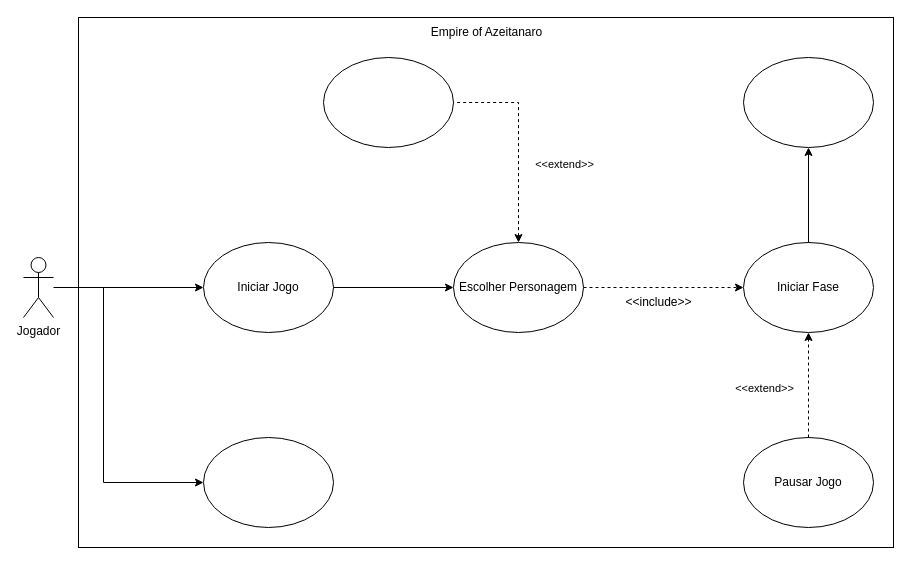
The diagram is 911 pixels wide and 565 high, and some of its shapes have lost their labels. The centre of each missing label's shape, as x and y in pixels:
Finalizar Fase: [808,102]
Sair do Jogo: [268,482]
Voltar ao Menu: [388,102]
